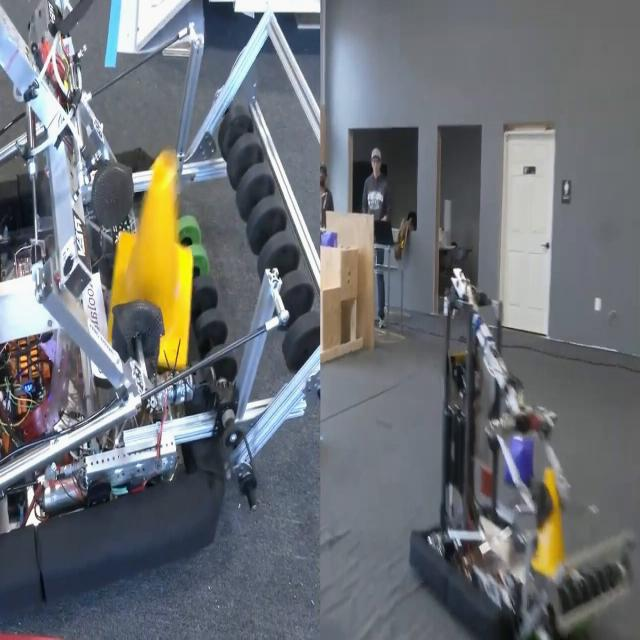frc_cone: (125, 153, 192, 350), (536, 467, 568, 570)
frc_cube: (501, 441, 535, 490), (317, 222, 343, 257)
